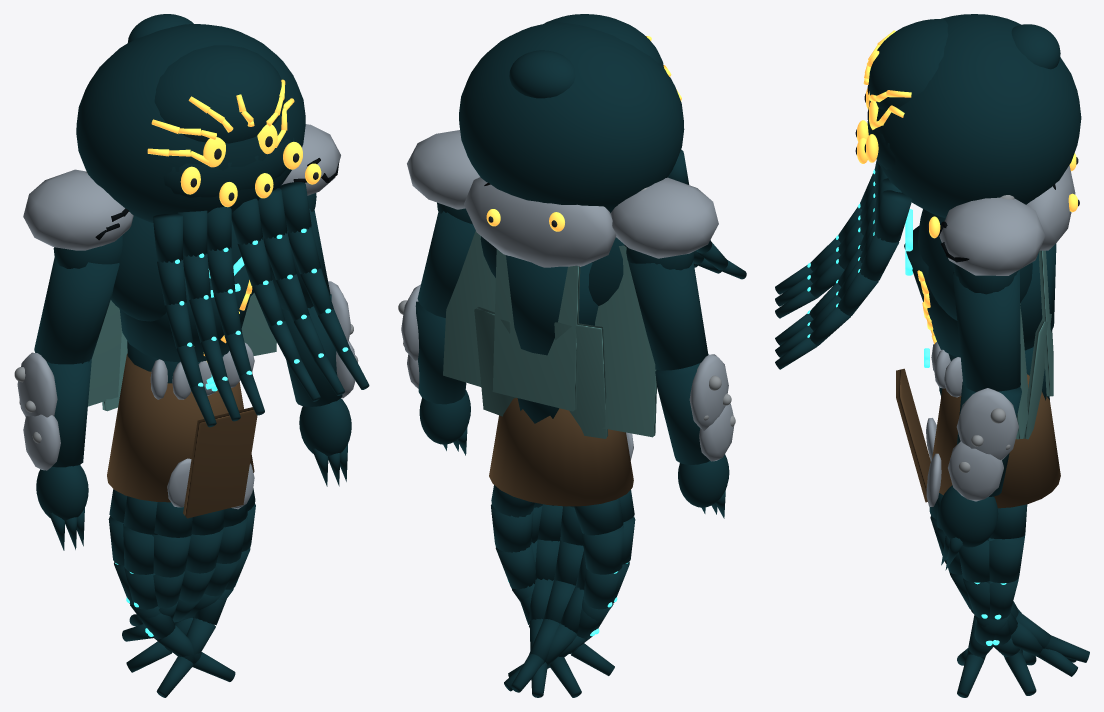
Rendered from 3D模型 monster_abysshorror.glb.
3 renders of one model, left to right at view 1: azimuth 30°, elevation 25°; view 2: azimuth 150°, elevation 25°; view 3: azimuth 270°, elevation 25°, orthographic. The views are drawn at different scales.
Visible parts, largest first — view 1: monster_abysshorror_dome, monster_abysshorror_skirt, monster_abysshorror_mantle, monster_abysshorror_armuR, monster_abysshorror_paudR, monster_abysshorror_flap, monster_abysshorror_chest, monster_abysshorror_upper, monster_abysshorror_armlR, monster_abysshorror_brow, monster_abysshorror_cape0, monster_abysshorror_handR (+55 smaller); view 2: monster_abysshorror_dome, monster_abysshorror_skirt, monster_abysshorror_backplate, monster_abysshorror_cape2, monster_abysshorror_cape0, monster_abysshorror_paudR, monster_abysshorror_armuR, monster_abysshorror_upper, monster_abysshorror_cape1, monster_abysshorror_paudL, monster_abysshorror_armuL, monster_abysshorror_cape3 (+31 smaller); view 3: monster_abysshorror_dome, monster_abysshorror_paudL, monster_abysshorror_armuL, monster_abysshorror_skirt, monster_abysshorror_mantle, monster_abysshorror_upper, monster_abysshorror_bracer1L, monster_abysshorror_handL, monster_abysshorror_chest, monster_abysshorror_bracer2L, monster_abysshorror_backplate, monster_abysshorror_flap (+27 smaller).
Boxes of the visible parts, x1,y1,x2,y2 form: monster_abysshorror_dome: (76, 24, 305, 222); monster_abysshorror_skirt: (107, 353, 254, 502); monster_abysshorror_mantle: (154, 45, 285, 143); monster_abysshorror_armuR: (34, 257, 119, 364); monster_abysshorror_paudR: (23, 169, 133, 250); monster_abysshorror_flap: (183, 407, 257, 518); monster_abysshorror_chest: (111, 216, 271, 321); monster_abysshorror_upper: (119, 265, 252, 362); monster_abysshorror_armlR: (46, 358, 91, 467); monster_abysshorror_brow: (163, 137, 294, 197); monster_abysshorror_cape0: (88, 300, 121, 406); monster_abysshorror_handR: (36, 465, 88, 520); monster_abysshorror_dome: (459, 22, 684, 212); monster_abysshorror_skirt: (489, 397, 633, 506); monster_abysshorror_backplate: (464, 177, 616, 267); monster_abysshorror_cape2: (492, 249, 580, 411); monster_abysshorror_cape0: (595, 245, 656, 437); monster_abysshorror_paudR: (610, 177, 718, 258); monster_abysshorror_armuR: (628, 261, 708, 370); monster_abysshorror_upper: (506, 255, 598, 355); monster_abysshorror_cape1: (443, 230, 495, 386); monster_abysshorror_paudL: (407, 130, 479, 209); monster_abysshorror_armuL: (417, 211, 475, 317); monster_abysshorror_cape3: (554, 322, 608, 438); monster_abysshorror_dome: (867, 14, 1081, 218); monster_abysshorror_paudL: (939, 197, 1045, 275); monster_abysshorror_armuL: (953, 269, 1020, 391); monster_abysshorror_skirt: (932, 374, 1060, 508); monster_abysshorror_mantle: (868, 19, 948, 109); monster_abysshorror_upper: (904, 226, 1056, 357); monster_abysshorror_bracer1L: (956, 388, 1018, 459); monster_abysshorror_handL: (939, 485, 998, 547); monster_abysshorror_chest: (918, 209, 1032, 320); monster_abysshorror_bracer2L: (948, 441, 1003, 501); monster_abysshorror_backplate: (1026, 165, 1075, 250); monster_abysshorror_flap: (896, 368, 930, 502).
Size of the model in its own units: 1.28 by 2.44 by 1.06.
